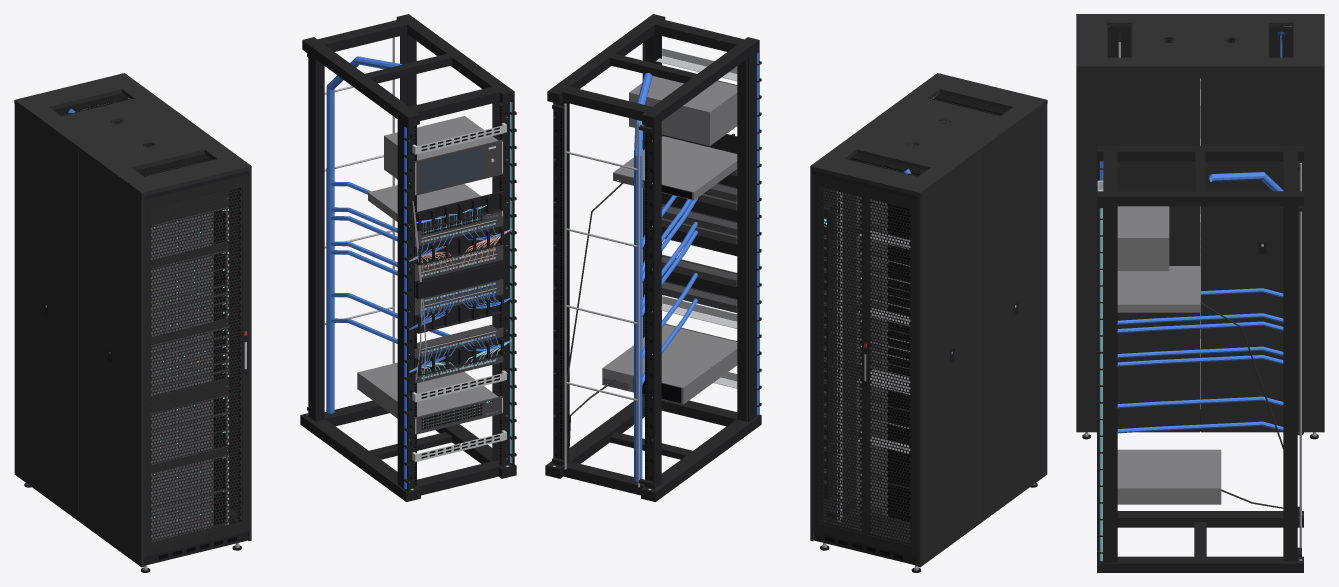
3 views of the same model, side by side, from view 1: azimuth 30°, elevation 25°; view 2: azimuth 150°, elevation 25°; view 3: azimuth 270°, elevation 25° (orthographic). The views are drawn at different scales.
Visible parts, largest first — view 1: RackA_SidePanel_L, RackA_FrontDoor, RackA_TopPanel, RackB, RackB_Cabling, RackB_TopFrame, RackB_BottomFrame, RackB_FiberEnclosure_U35, RackB_Switch2U_U07, RackB_VerticalCableManager_L, RackA_SidePanel_R, RackB_Switch_U30 (+28 smaller); view 2: RackA_SidePanel_L, RackA_RearDoor, RackB, RackA_TopPanel, RackB_TopFrame, RackB_BottomFrame, RackA_SidePanel_R, RackB_Cabling, RackB_Switch2U_U07, RackB_FiberEnclosure_U35, RackB_Switch_U30, RackB_VerticalCableManager_L (+19 smaller); view 3: RackA_SidePanel_R, RackA_TopPanel, RackB_TopFrame, RackB_BottomFrame, RackB_VerticalCableManager_R, RackB_Cabling, RackB_Switch2U_U07, RackB, RackB_Switch_U30, RackB_FiberEnclosure_U35, RackB_Cabling_Lower, RackB_RearLacingBars.
Boxes of the visible parts, <box> form: RackA_SidePanel_L: <box>14,104,144,567</box>; RackA_FrontDoor: <box>144,174,248,556</box>; RackA_TopPanel: <box>14,73,251,196</box>; RackB: <box>308,34,508,488</box>; RackB_Cabling: <box>326,56,512,489</box>; RackB_TopFrame: <box>302,14,514,126</box>; RackB_BottomFrame: <box>300,400,516,501</box>; RackB_FiberEnclosure_U35: <box>384,116,503,195</box>; RackB_Switch2U_U07: <box>357,362,503,434</box>; RackB_VerticalCableManager_L: <box>397,120,410,491</box>; RackA_SidePanel_R: <box>206,160,251,541</box>; RackB_Switch_U30: <box>368,184,503,238</box>; RackA_SidePanel_L: <box>917,104,1047,567</box>; RackA_RearDoor: <box>813,174,917,556</box>; RackB: <box>553,34,747,488</box>; RackA_TopPanel: <box>810,73,1047,196</box>; RackB_TopFrame: <box>547,14,759,126</box>; RackB_BottomFrame: <box>545,395,761,501</box>; RackA_SidePanel_R: <box>810,160,872,541</box>; RackB_Cabling: <box>566,52,758,481</box>; RackB_Switch2U_U07: <box>602,323,737,404</box>; RackB_FiberEnclosure_U35: <box>629,76,737,145</box>; RackB_Switch_U30: <box>613,135,737,200</box>; RackB_VerticalCableManager_L: <box>748,50,761,422</box>; RackA_SidePanel_R: <box>1076,70,1324,432</box>; RackA_TopPanel: <box>1076,14,1324,70</box>; RackB_TopFrame: <box>1097,146,1303,206</box>; RackB_BottomFrame: <box>1097,511,1303,572</box>; RackB_VerticalCableManager_R: <box>1097,206,1117,562</box>; RackB_Cabling: <box>1099,161,1283,561</box>; RackB_Switch2U_U07: <box>1117,449,1221,504</box>; RackB: <box>1283,206,1297,561</box>; RackB_Switch_U30: <box>1117,266,1200,312</box>; RackB_FiberEnclosure_U35: <box>1117,206,1169,270</box>; RackB_Cabling_Lower: <box>1117,396,1283,433</box>; RackB_RearLacingBars: <box>1297,161,1301,556</box>.
Bounding box in the file's own units: 2.1 × 2 × 1.2.
